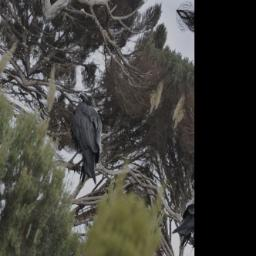Crow: (54, 88, 119, 196)
